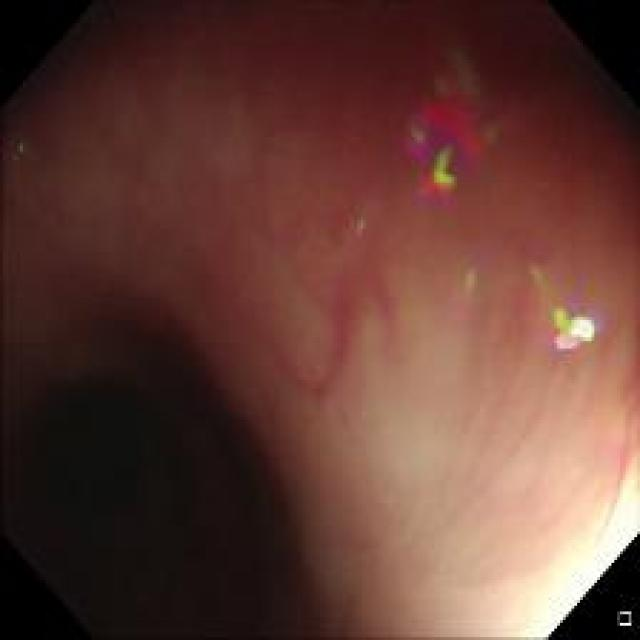color misalignment: (402, 51, 496, 201), (532, 289, 606, 360), (442, 294, 480, 325), (455, 261, 482, 292), (10, 136, 32, 168)
contrast: (12, 284, 316, 626)
saturation: (511, 480, 639, 628)
